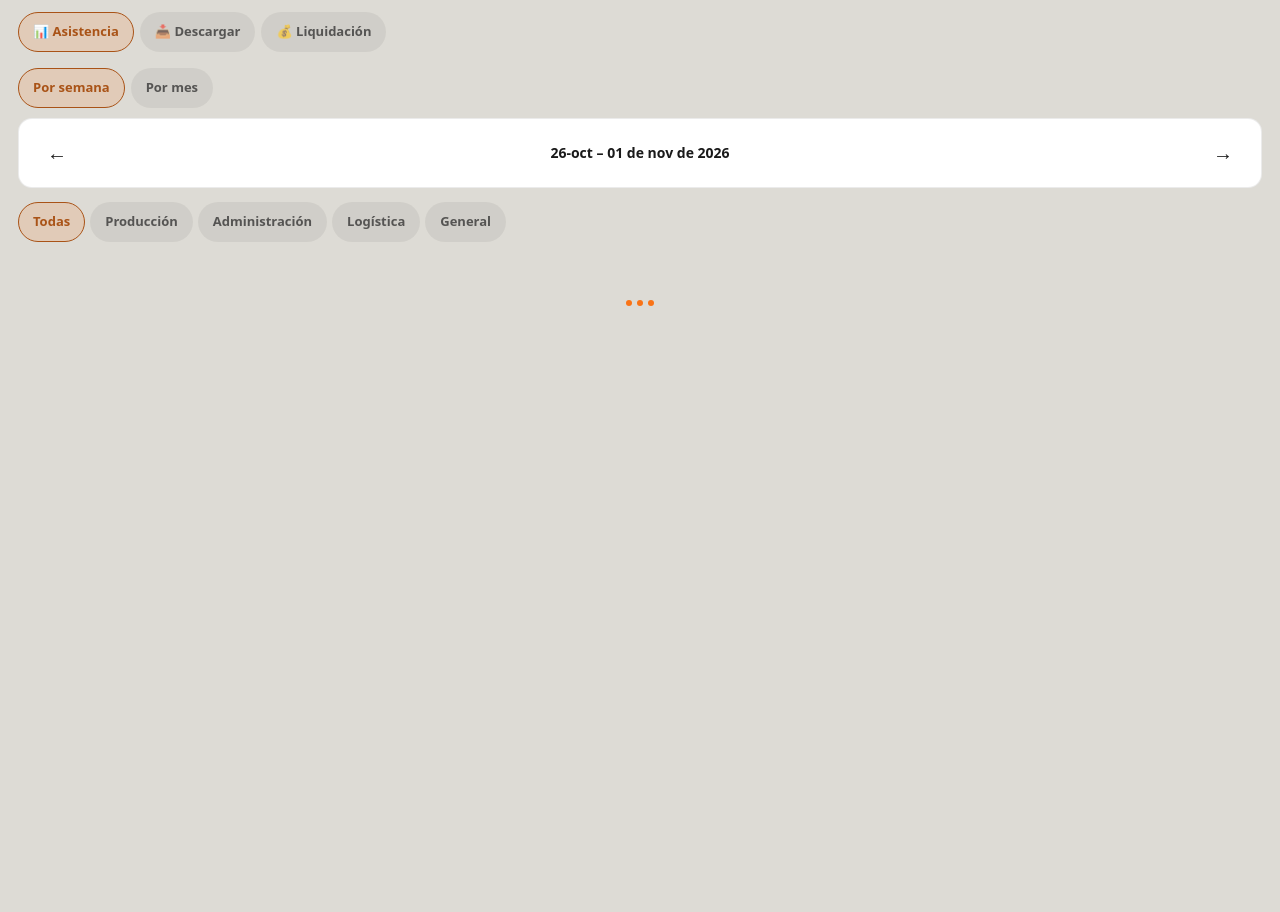
Test: reportes — la pestaña Descargar dice qué baja cada botón
The image size is (1280, 912).
Click the button "📥 Descargar" at coordinates (198, 32), box 140,12 -> 256,52
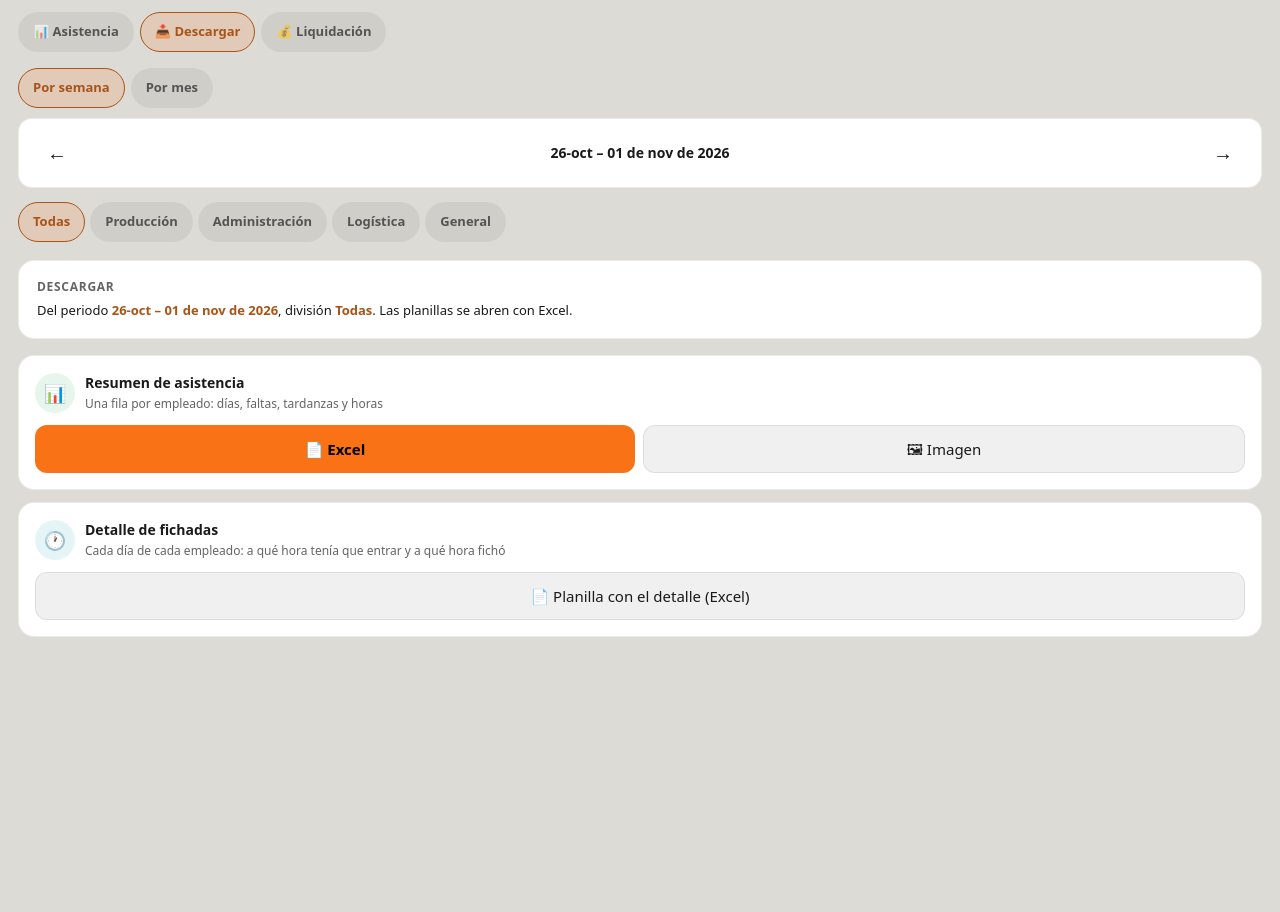
Expected: the button "📄 Excel" is shown, 35,425 -> 635,473
Expected: the button "🖼 Imagen" is shown, 643,425 -> 1245,473
